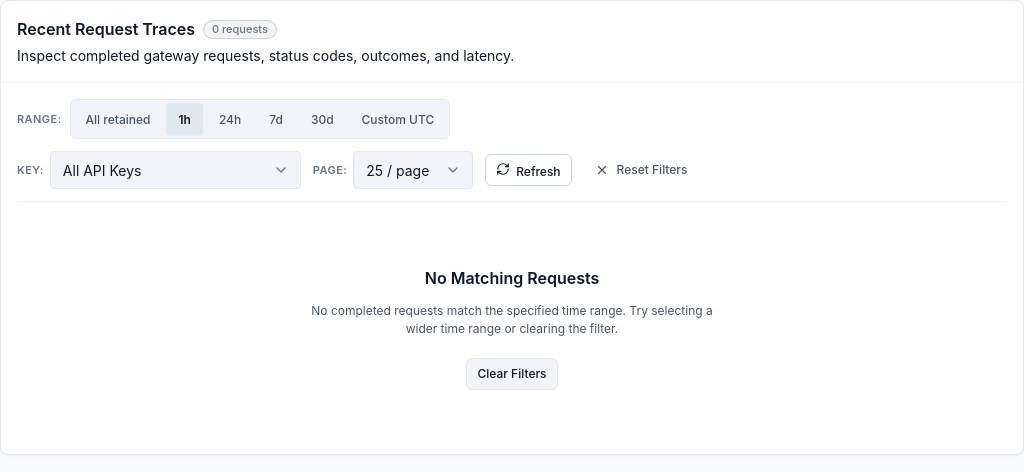
Scenario: T173 Request History Explorer › contextual empty state for time range filter with clear filters button
The image size is (1024, 472).
Expected: the element with test id "requests-empty-filtered-range" is shown, [311,268,713,390]
Click the button "Clear Filters". click: (512, 374)
box: [466,358,558,390]
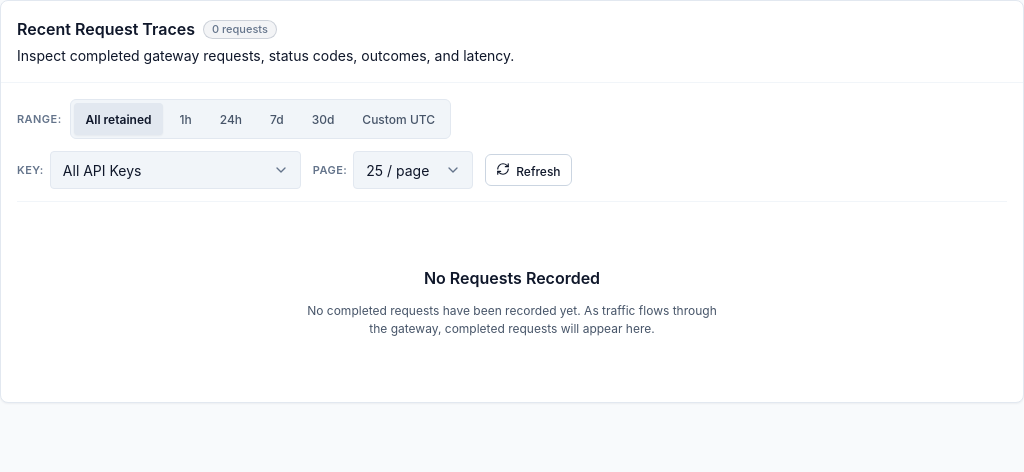
Now the element with test id "requests-empty-filtered-range" is gone
